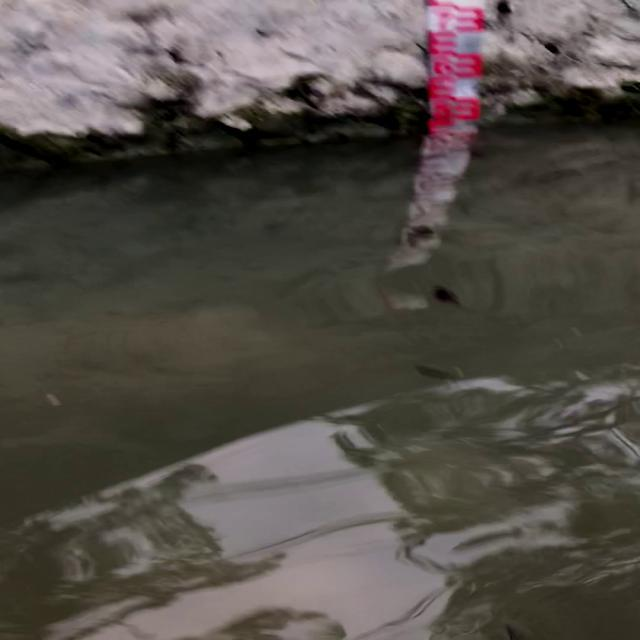ruler: (414, 0, 498, 142)
